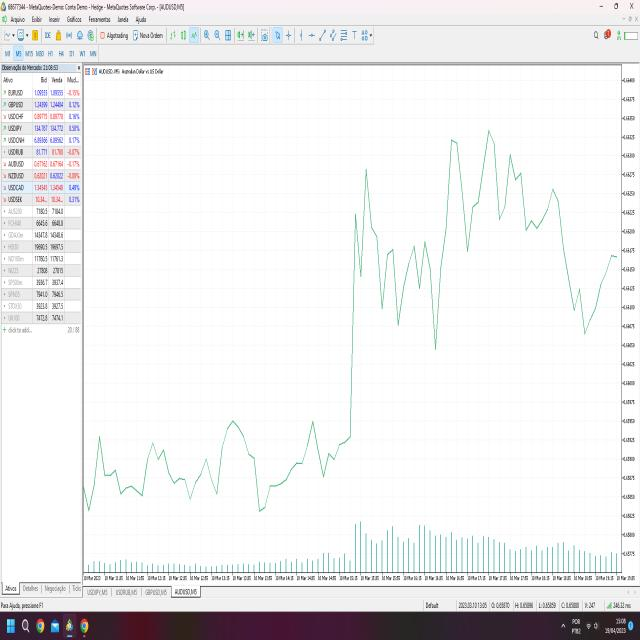fundo_duplo: (390, 210, 450, 371)
